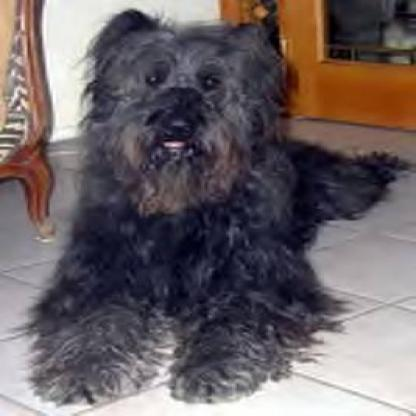Bouvier_des_Flandres: (25, 5, 410, 406)
